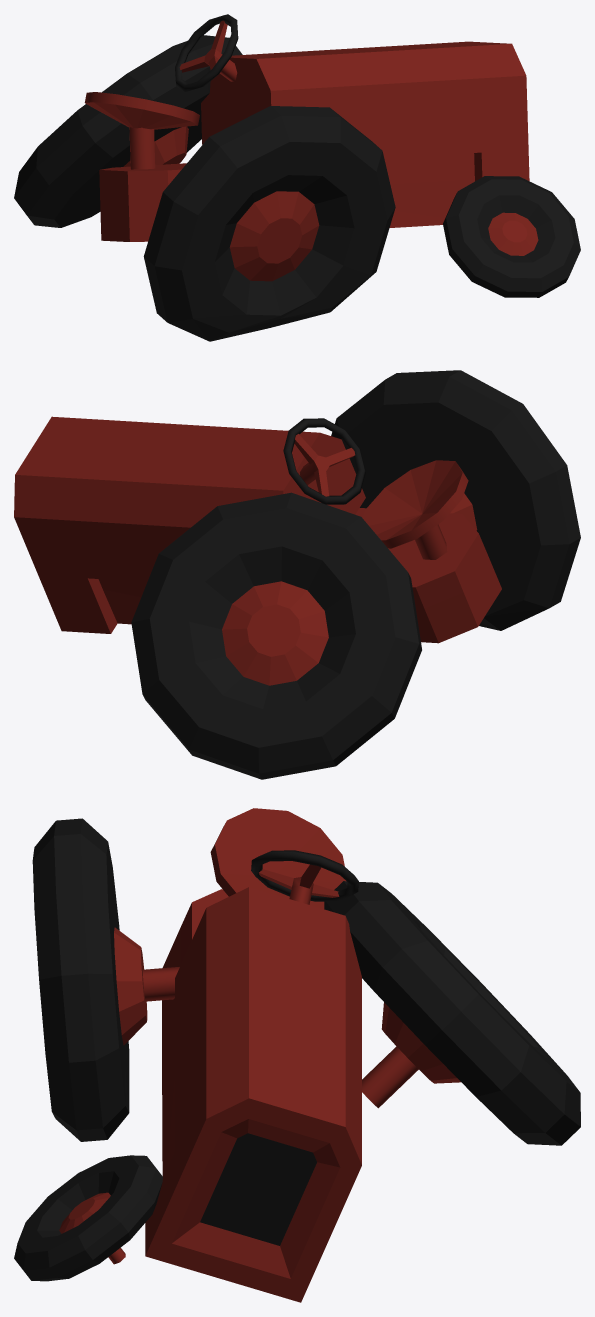
File: tractor.FBX
3 views of the same model, one above another, from view 1: azimuth 30°, elevation 25°; view 2: azimuth 150°, elevation 25°; view 3: azimuth 270°, elevation 25° (orthographic). The views are drawn at different scales.
Visible parts, largest first — view 1: Box002; view 2: Box002; view 3: Box002.
Boxes of the visible parts, box(x1,y1,x2,y2) form: Box002: box(14, 14, 580, 341); Box002: box(14, 370, 580, 779); Box002: box(14, 808, 580, 1302).
Bounding box in the file's own units: 44.43 × 25.14 × 41.2.
